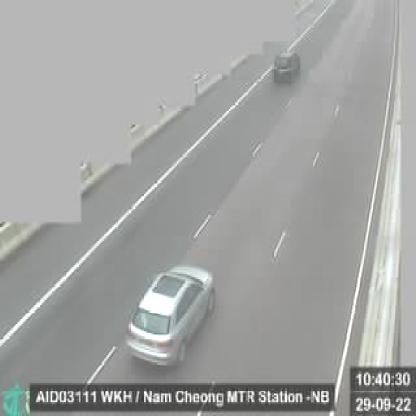Car: (121, 258, 222, 368), (270, 40, 300, 95)
